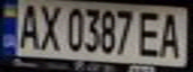0: (63, 3, 84, 53)
3: (81, 4, 100, 54)
7: (115, 7, 139, 56)
8: (97, 6, 118, 55)
A: (157, 9, 187, 60), (12, 1, 42, 51)
E: (136, 8, 163, 59)
X: (33, 1, 63, 52)
